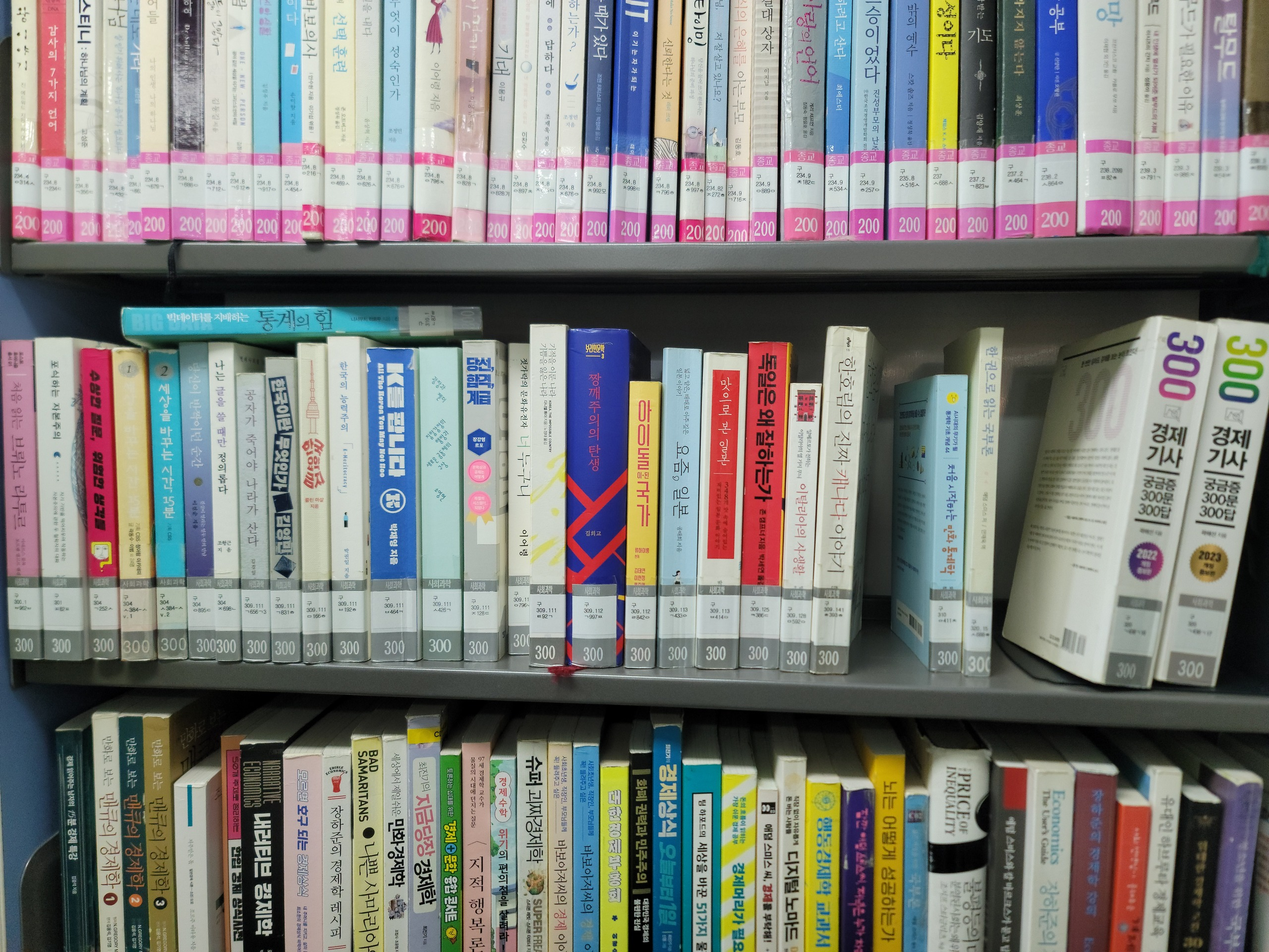book-spine: (1100, 314, 1219, 690), (1159, 314, 1268, 691), (568, 328, 629, 671), (810, 326, 867, 674), (737, 342, 789, 671), (33, 338, 84, 660), (695, 354, 747, 669), (367, 348, 419, 660), (961, 326, 1003, 680), (657, 349, 702, 667), (111, 348, 154, 663), (0, 341, 42, 660), (420, 348, 462, 665), (326, 338, 367, 661), (777, 385, 822, 673), (79, 348, 120, 660), (147, 351, 188, 658), (462, 341, 499, 666), (531, 324, 566, 666), (178, 343, 215, 659), (929, 375, 968, 673), (264, 358, 301, 662), (297, 344, 331, 665), (207, 342, 241, 661), (131, 305, 475, 336), (235, 374, 271, 661), (624, 382, 660, 667), (508, 344, 531, 666)
